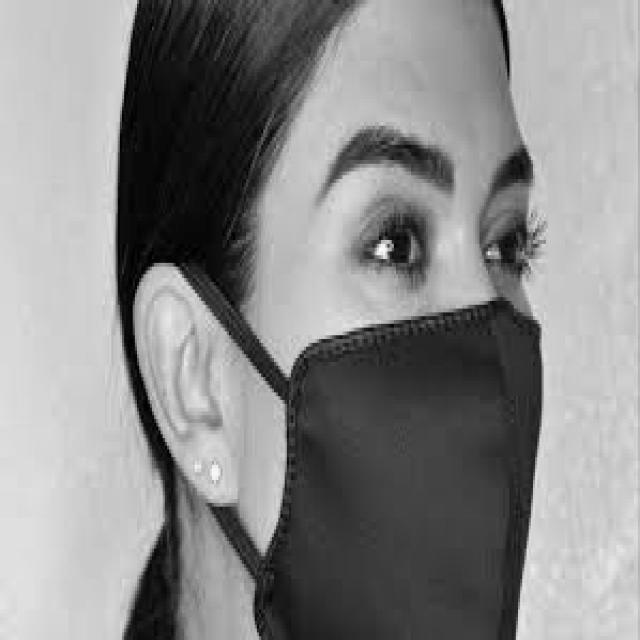fake: (165, 297, 548, 640)
real: (253, 2, 578, 549)
